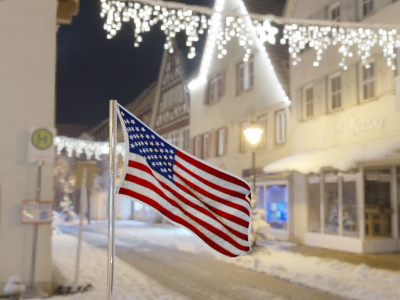America flag: (115, 103, 252, 260)
